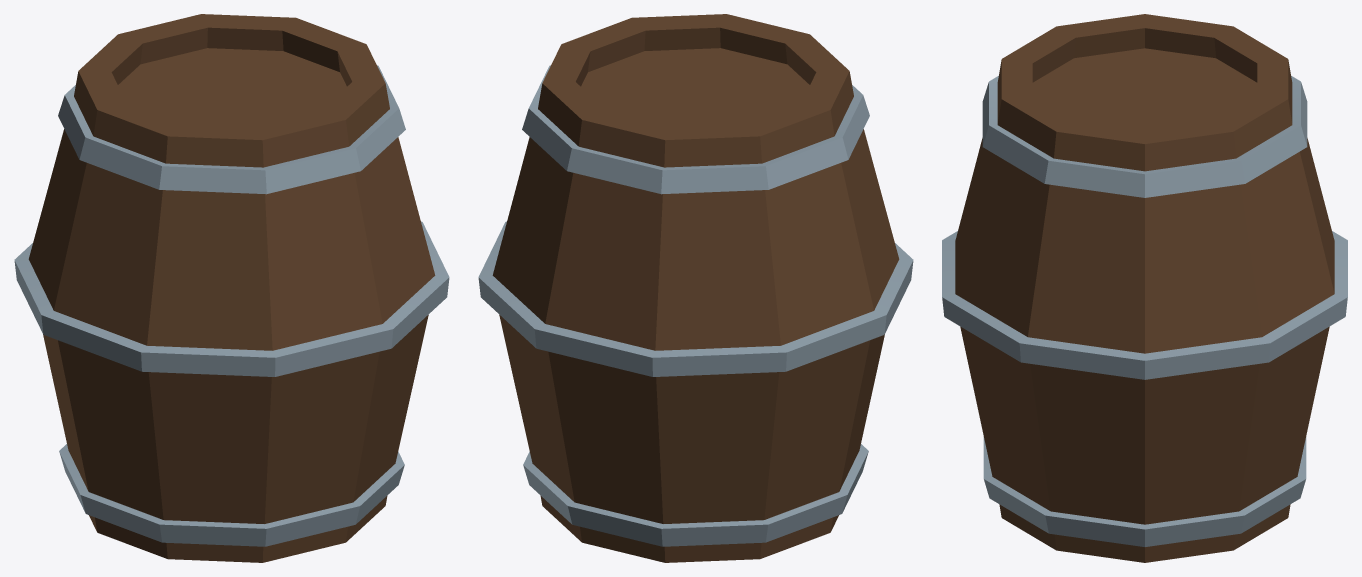
Rendered from Environment_Barrel_Large_Mesh_V03.fbx.
The picture shows the model from 3 angles, left to right: view 1: azimuth 30°, elevation 25°; view 2: azimuth 150°, elevation 25°; view 3: azimuth 270°, elevation 25°; orthographic projection.
Visible parts, largest first — view 1: Barrel_L; view 2: Barrel_L; view 3: Barrel_L.
Part boxes in pixels (box(x1,y1,x2,y2)): Barrel_L: box(14, 14, 449, 562); Barrel_L: box(478, 14, 913, 562); Barrel_L: box(942, 14, 1347, 562).
Bounding box in the file's own units: 76.39 × 80.94 × 71.08.
